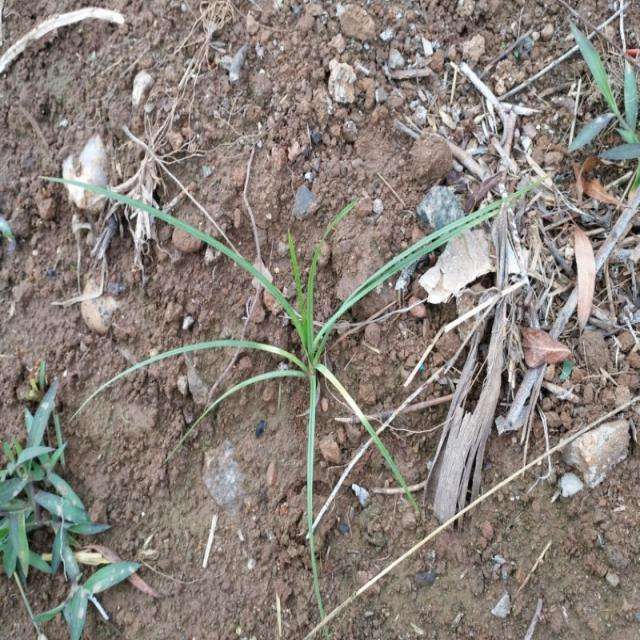sedge: (9, 133, 522, 516)
